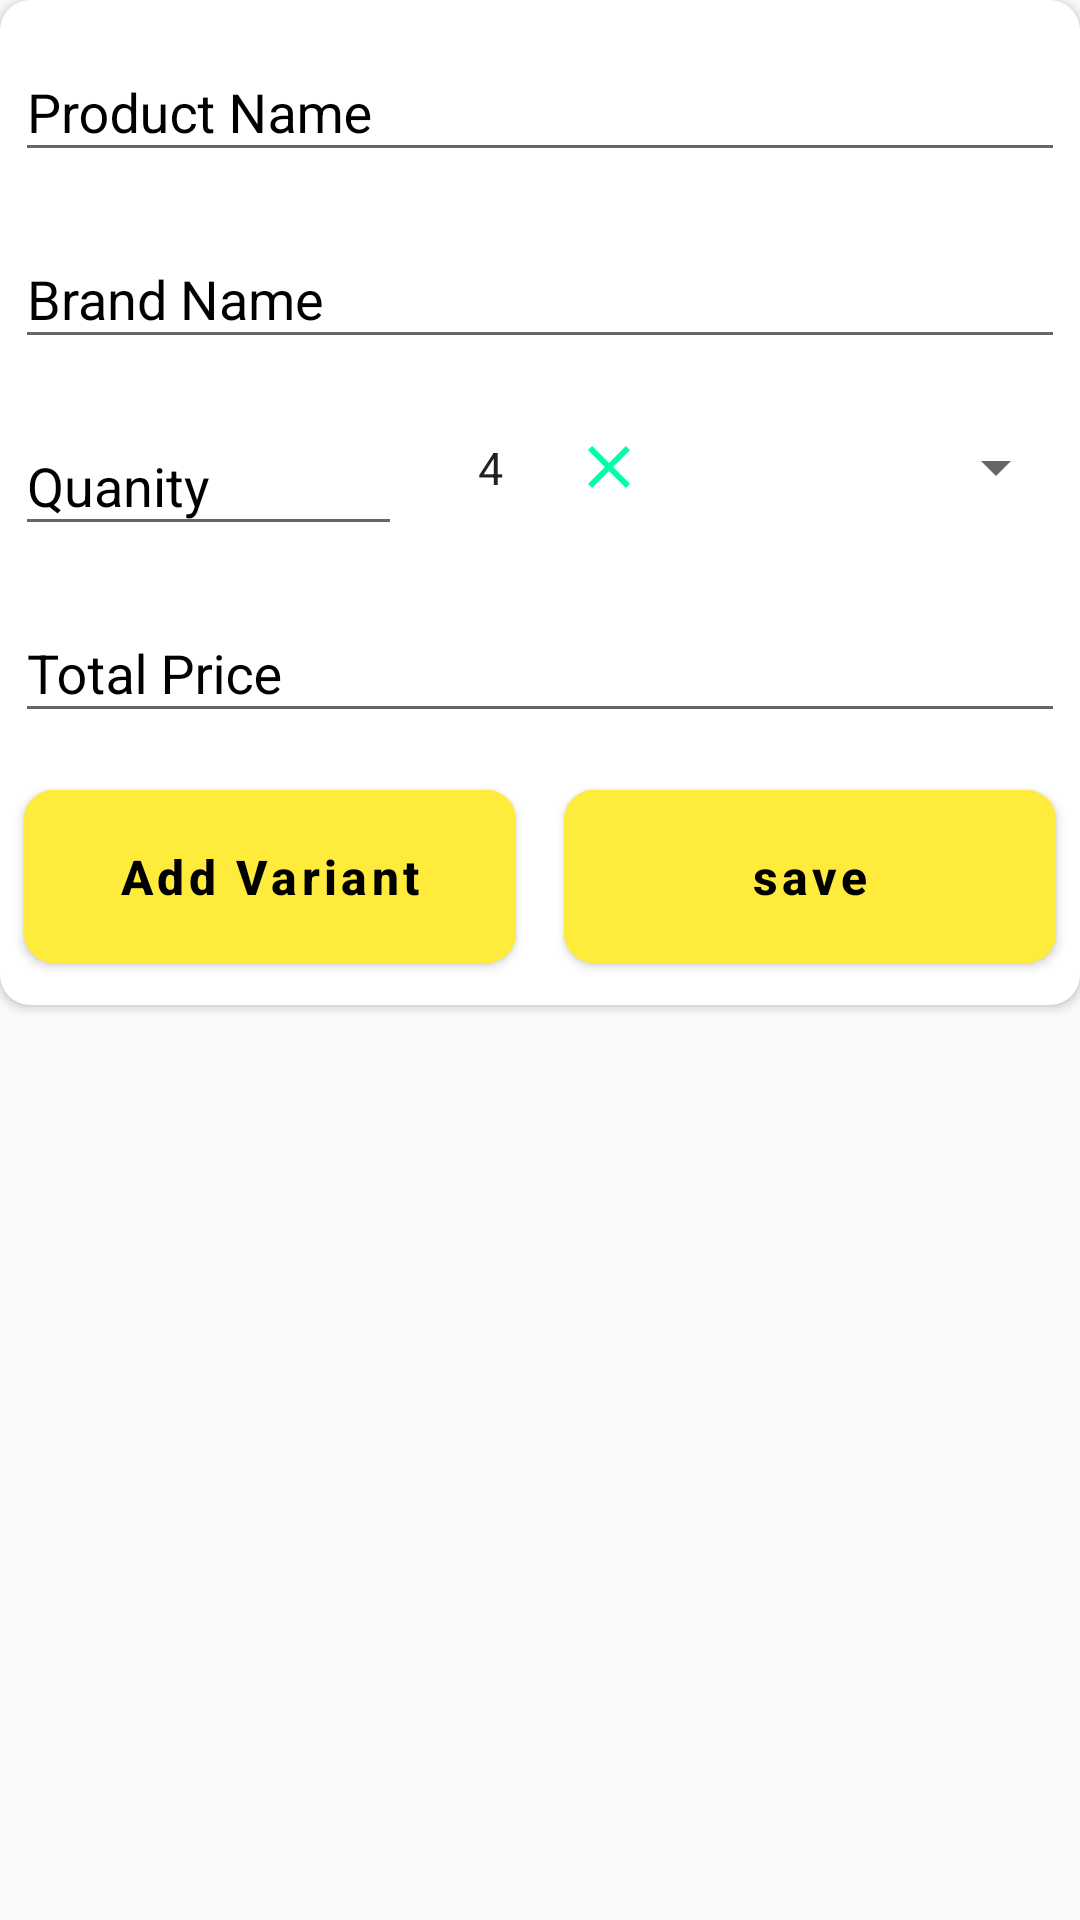

Screen size 1080x1920. Icon name, then its center in pixels as (x=x, y=y):
cross: (x=609, y=467)
